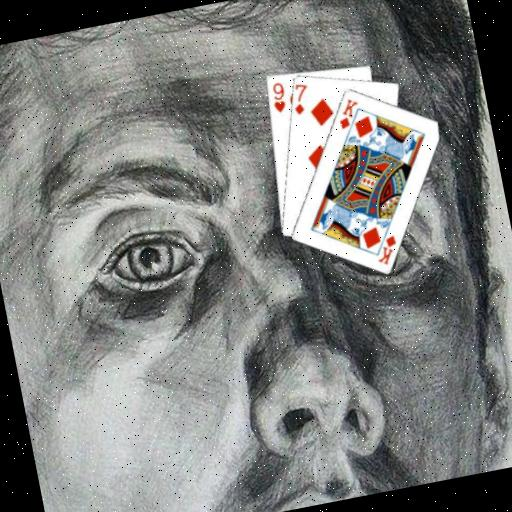7D: (287, 80, 314, 117)
9H: (267, 79, 290, 116)
KD: (332, 95, 364, 132), (370, 231, 401, 268)
